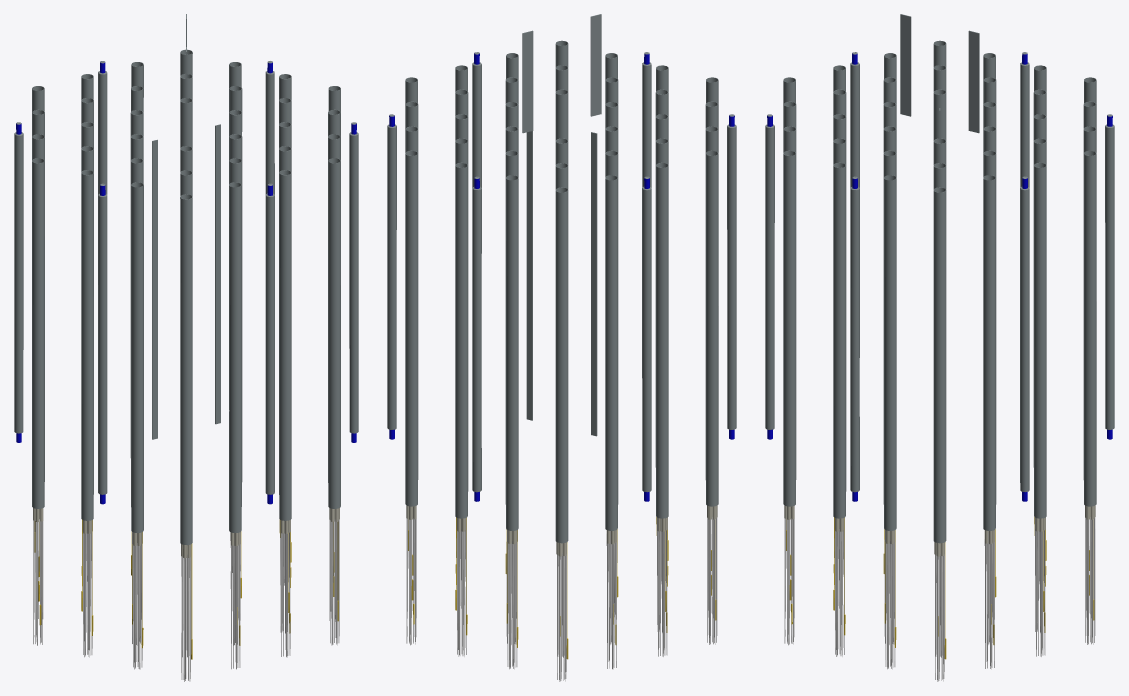
Rendered from f4_heatpipes.glb.
The picture shows the model from 3 angles, left to right: view 1: azimuth 30°, elevation 25°; view 2: azimuth 150°, elevation 25°; view 3: azimuth 270°, elevation 25°; orthographic projection.
Parts seen in each view (by area): view 1: f4_heatpipes; view 2: f4_heatpipes; view 3: f4_heatpipes.
Part boxes in pixels (bbox=[...]): f4_heatpipes: bbox=[14, 14, 358, 681]; f4_heatpipes: bbox=[387, 14, 736, 681]; f4_heatpipes: bbox=[765, 14, 1114, 681].
Bounding box in the file's own units: 1.19 × 2.12 × 1.15.
